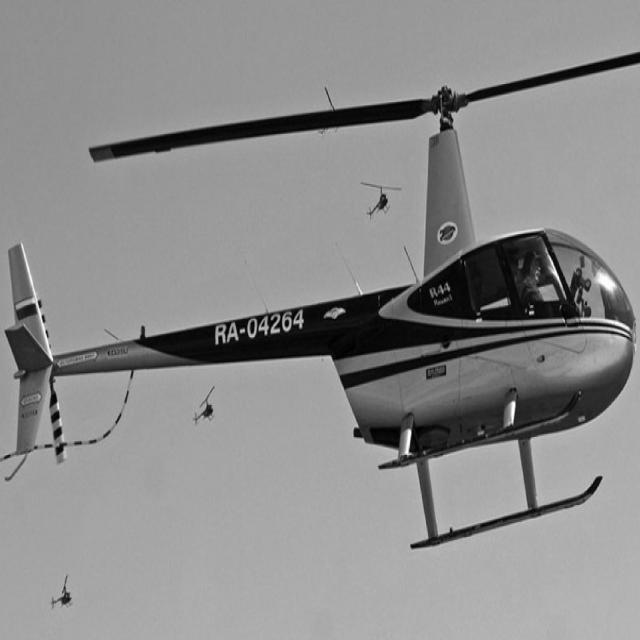helicopter: (1, 1, 640, 573), (359, 173, 407, 231), (46, 565, 85, 622), (187, 384, 225, 437), (1, 525, 17, 590)
